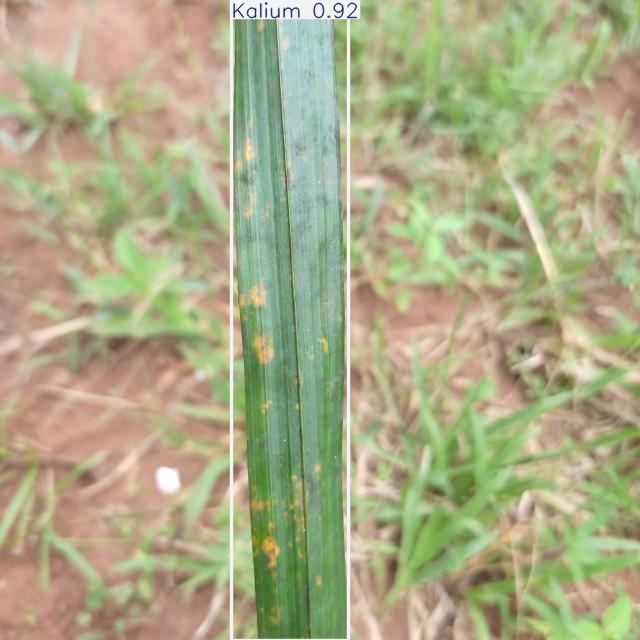Kalium: (231, 0, 349, 640)
